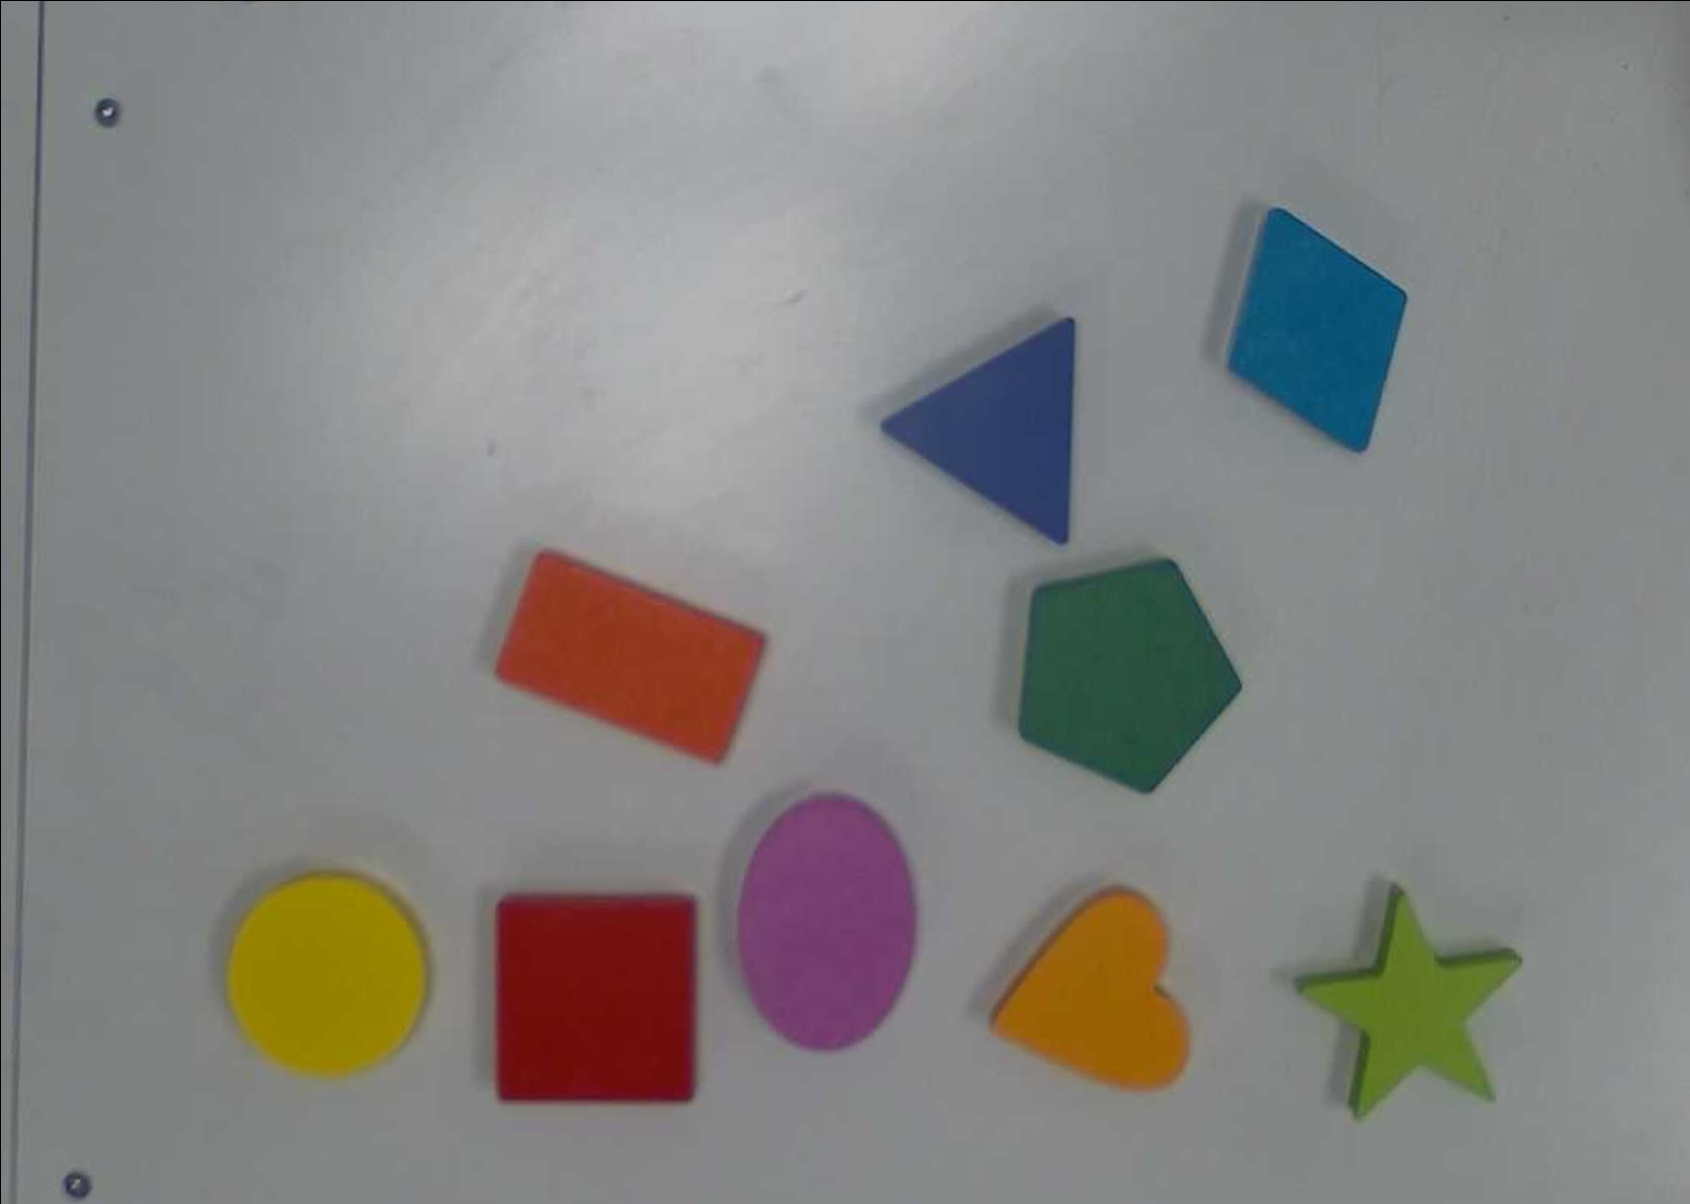Circle: (225, 867, 431, 1082)
Ellipse: (732, 794, 923, 1059)
Heart: (990, 881, 1192, 1096)
Parallelogram: (1221, 205, 1409, 456)
Pentagon: (1003, 552, 1252, 809)
Rectangle: (489, 546, 771, 769)
Square: (491, 889, 700, 1105)
Star: (1281, 870, 1527, 1118)
Triangle: (874, 310, 1080, 552)
